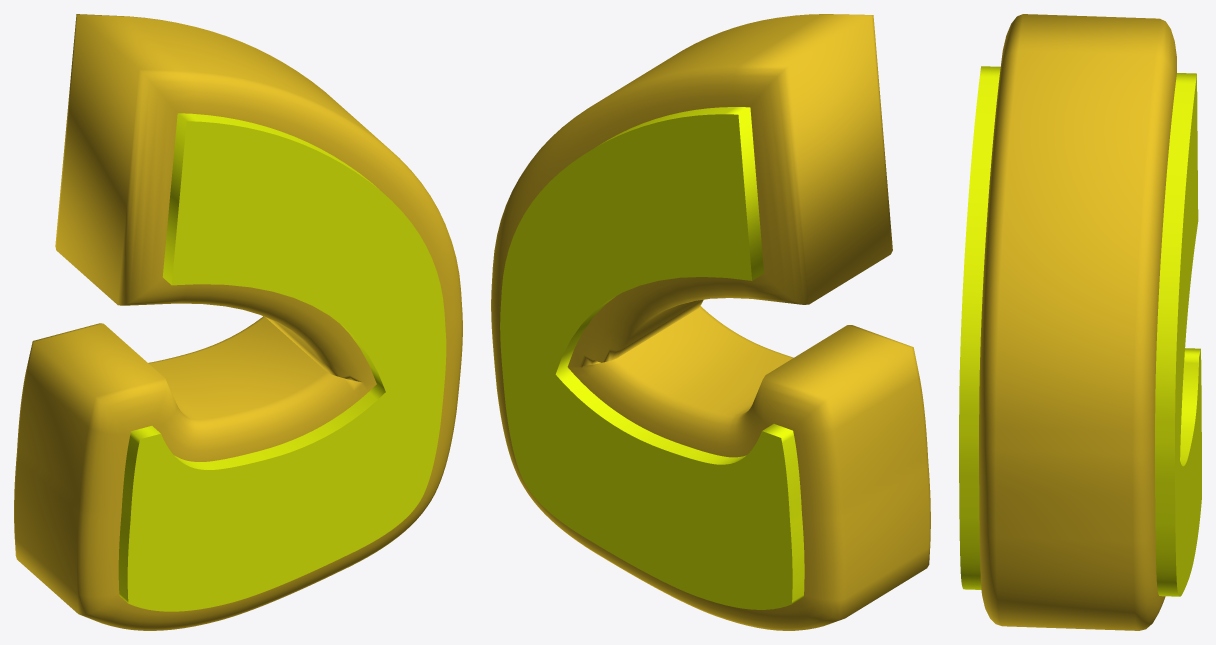
The picture shows the model from 3 angles, left to right: view 1: azimuth 30°, elevation 25°; view 2: azimuth 150°, elevation 25°; view 3: azimuth 270°, elevation 25°; orthographic projection. The views are drawn at different scales.
Visible parts, largest first — view 1: text 2, Text; view 2: text 2, Text; view 3: text 2, Text.
Part boxes in pixels (<box>): text 2: <box>14,14,462,630</box>; Text: <box>118,113,446,611</box>; text 2: <box>491,14,930,630</box>; Text: <box>500,107,804,609</box>; text 2: <box>979,14,1176,630</box>; Text: <box>959,66,1201,596</box>.
Bounding box in the file's own units: 23.5 × 33.67 × 13.64.
